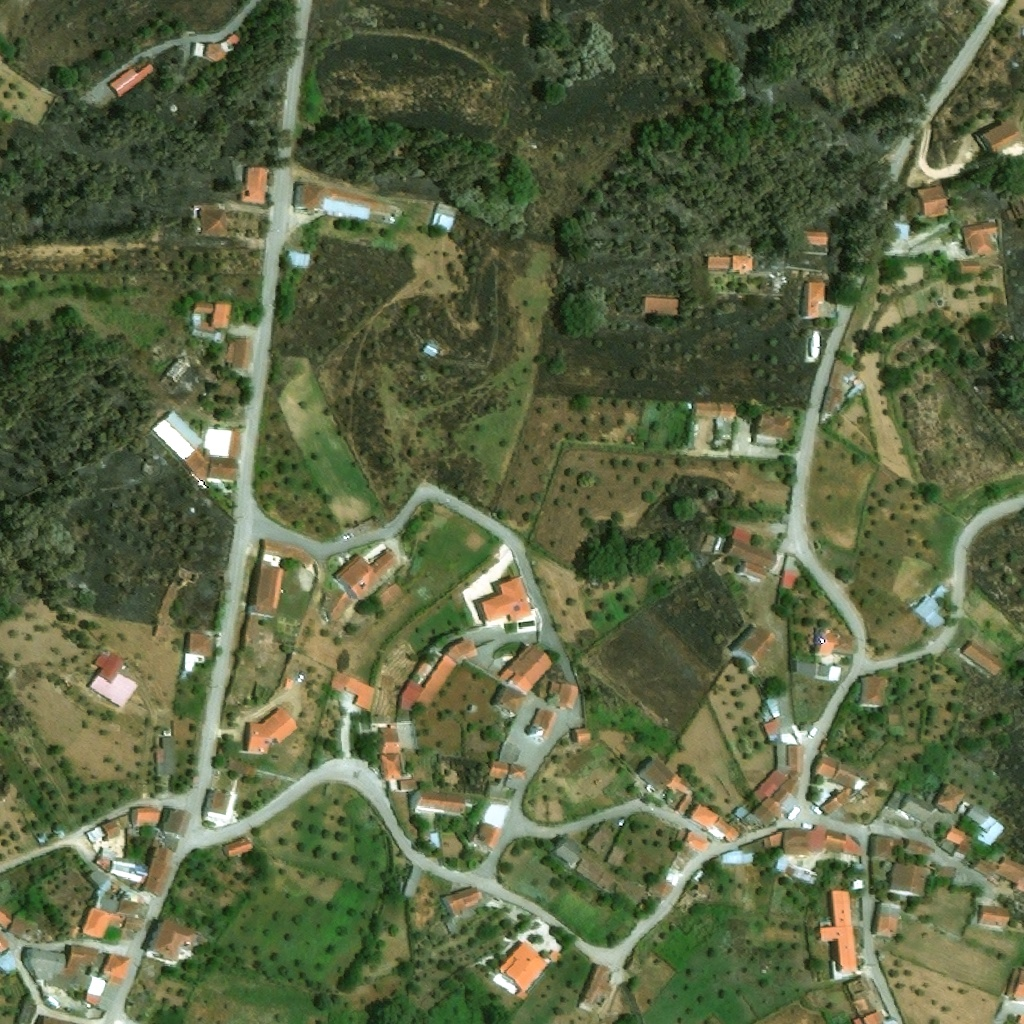0 no-damage: (150, 408, 242, 485), (731, 744, 802, 829), (400, 639, 475, 707), (249, 540, 313, 617), (813, 756, 874, 818), (292, 183, 390, 221), (820, 890, 865, 971), (333, 549, 400, 602), (496, 643, 557, 695), (641, 756, 693, 815), (476, 573, 535, 624), (376, 727, 422, 792), (726, 526, 778, 581), (82, 896, 147, 939), (87, 653, 137, 708), (144, 919, 199, 967), (763, 826, 849, 856), (499, 942, 548, 994), (971, 848, 1023, 896), (245, 707, 297, 754), (688, 803, 742, 844), (730, 626, 778, 672), (106, 58, 157, 98), (576, 963, 615, 1015), (93, 847, 147, 884), (758, 695, 796, 743), (477, 800, 512, 850), (964, 803, 1005, 845), (960, 640, 1003, 679), (59, 945, 97, 989), (979, 118, 1022, 156), (140, 848, 174, 896), (914, 583, 948, 631), (22, 947, 65, 983), (0, 906, 41, 943), (888, 862, 929, 897), (960, 222, 999, 257), (576, 857, 615, 891), (339, 676, 376, 711), (182, 632, 215, 671), (191, 301, 231, 333), (416, 790, 467, 815), (239, 166, 269, 207), (444, 885, 482, 917), (202, 789, 237, 823), (812, 630, 855, 657), (791, 660, 842, 682), (899, 791, 933, 823), (846, 975, 872, 1016), (917, 187, 950, 219), (755, 416, 794, 443), (543, 682, 581, 709), (693, 401, 744, 421), (799, 280, 825, 319), (529, 708, 558, 742), (947, 825, 975, 860), (100, 955, 130, 987), (553, 836, 583, 867), (873, 902, 901, 935), (868, 834, 901, 862), (161, 808, 191, 838), (201, 207, 230, 238), (858, 676, 887, 707), (225, 336, 251, 370), (85, 820, 120, 845), (935, 783, 965, 812), (490, 760, 526, 782), (222, 837, 255, 860), (430, 201, 455, 230), (678, 828, 708, 852), (779, 555, 800, 589), (706, 255, 753, 270), (587, 825, 613, 852), (978, 904, 1011, 925), (641, 298, 678, 316), (791, 226, 828, 244), (502, 685, 526, 710), (85, 977, 106, 1005), (606, 844, 629, 869), (131, 808, 161, 827), (0, 951, 21, 977), (204, 42, 228, 64), (285, 249, 311, 268), (89, 869, 110, 892), (33, 1014, 73, 1023), (960, 261, 982, 275), (571, 728, 592, 742), (224, 31, 241, 48), (0, 936, 10, 955)
3 destroyed: (157, 354, 193, 388)
4 un-classified: (1003, 966, 1023, 1001), (1006, 191, 1023, 221), (852, 1012, 878, 1023)
